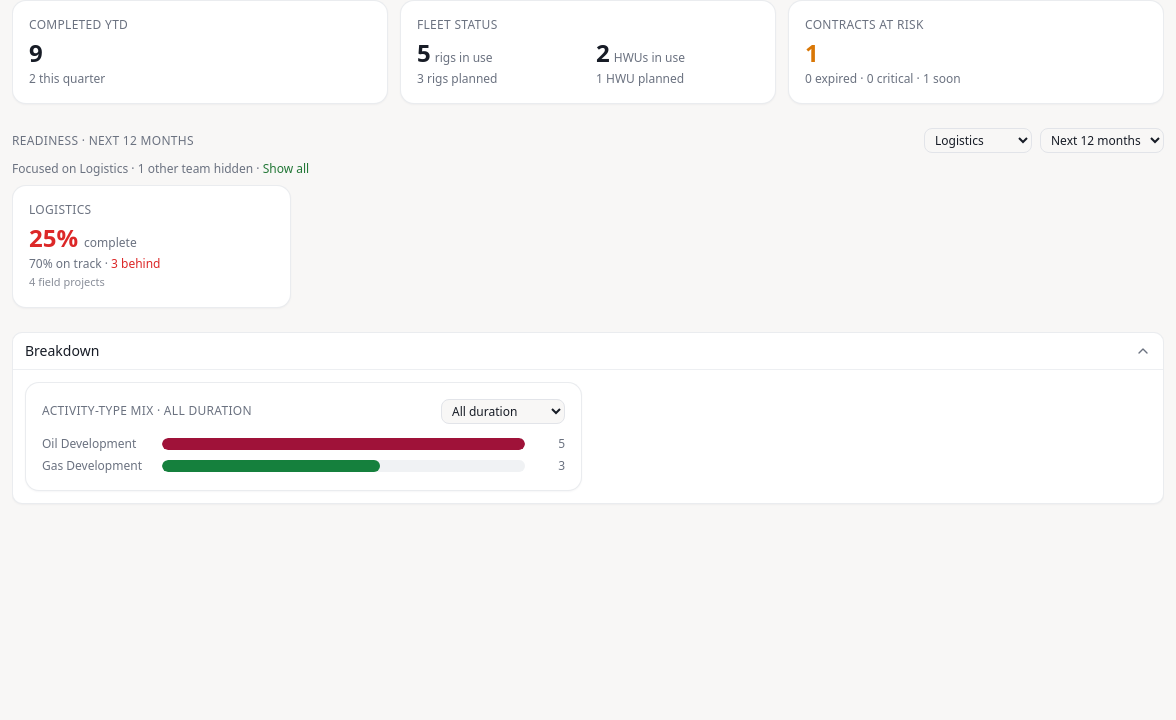
Scenario: ProjectDashboard › 'Show all' puts lens=all in the link, so sharing it opens on every team
Expected: the element with test id "readiness-focus-note" is shown, [12,160,309,177]
Click the button "Show all": (286, 169) [263,161,309,177]
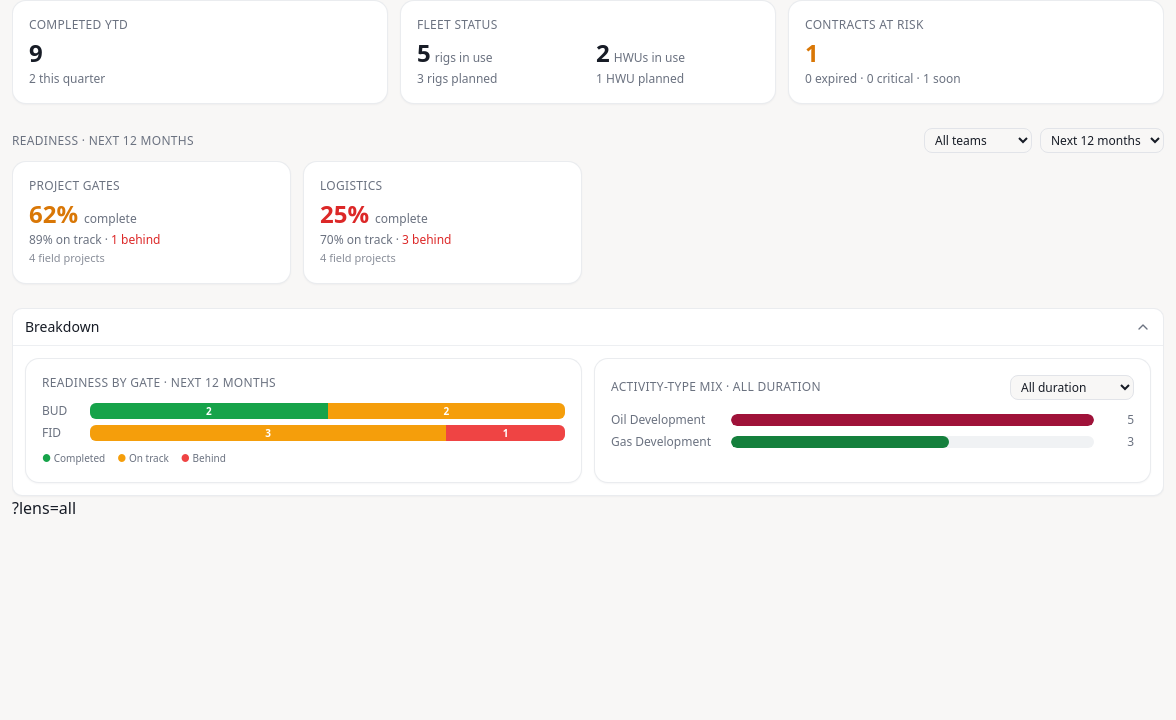
Result: the text with test id "search" reads "?lens=all" at [12,496,76,518]
